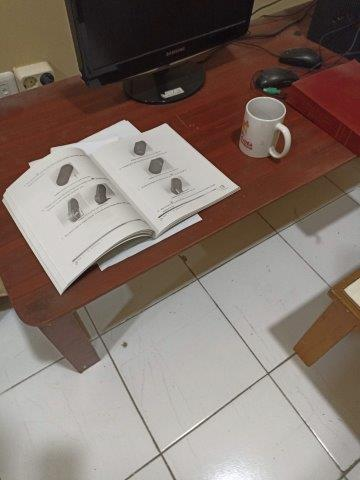kertas: (3, 120, 241, 295)
